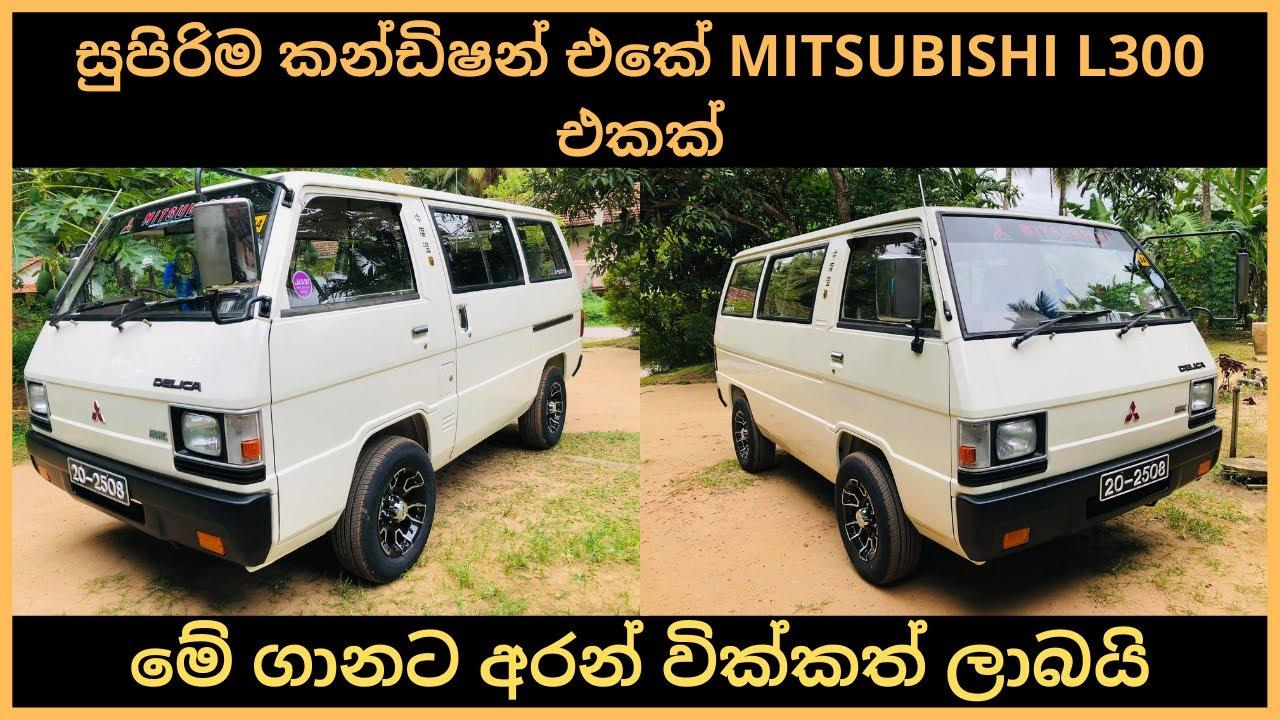van: (23, 172, 585, 590), (710, 205, 1220, 590)
